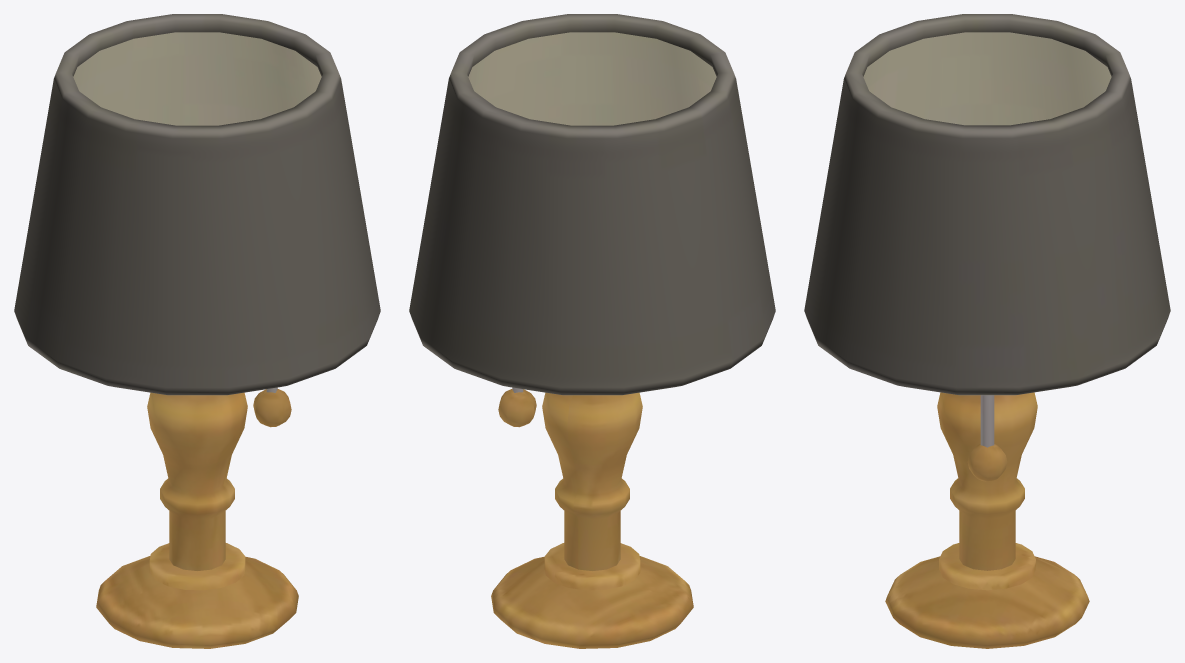
3 renders of one model, left to right at view 1: azimuth 30°, elevation 25°; view 2: azimuth 150°, elevation 25°; view 3: azimuth 270°, elevation 25°, orthographic.
Bounding box in the file's own units: 4.67 × 7.65 × 4.74.
2 materials, 2 textured.
